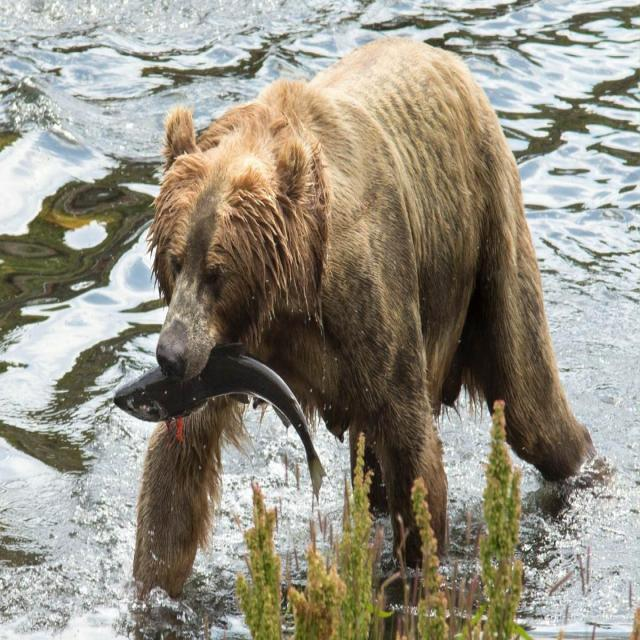Carnivorous: (149, 38, 596, 640), (131, 395, 247, 605)
